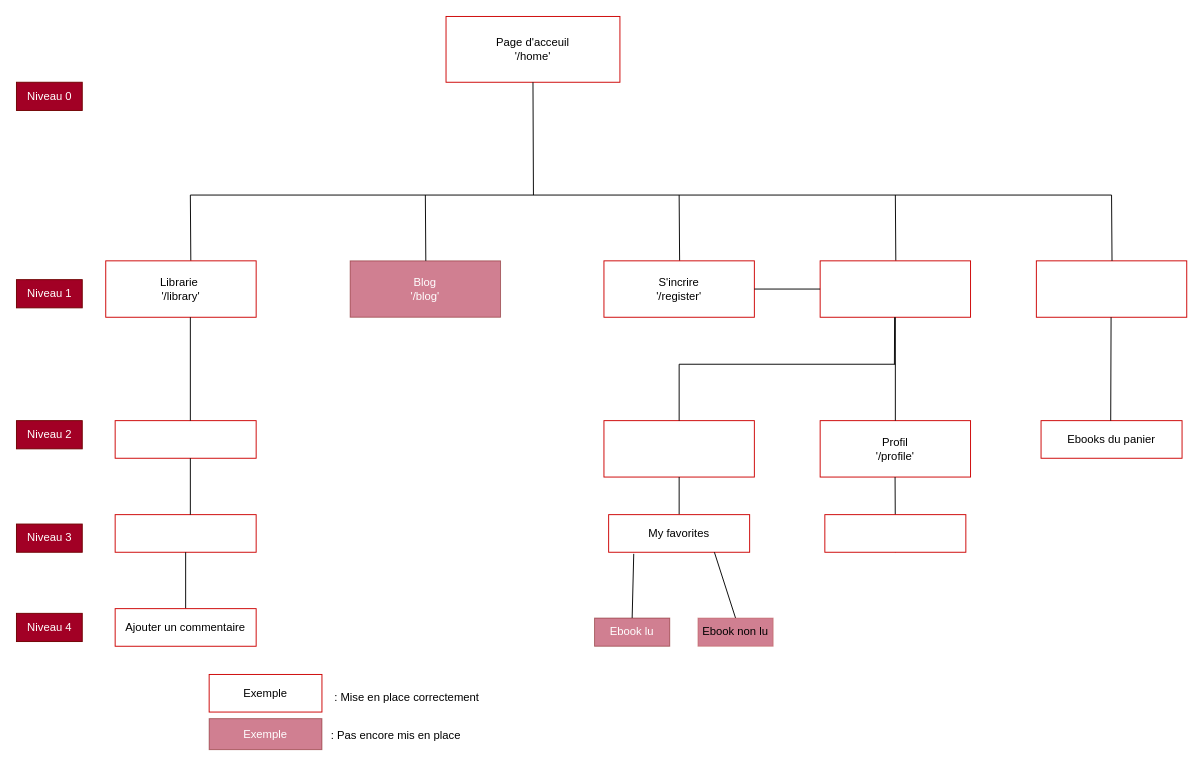
Some shapes in this 1203 by 766 pixel diagram are drawn without their labels. The shapes that lost their labels are listed below. From the top down, each one's box as (x1, y1, x2, y2) in pixels, then its label:
(819, 260, 971, 317): Se Connecter '/login'
(1035, 260, 1187, 317): Panier '/cart'
(114, 420, 256, 458): Ebooks
(603, 420, 754, 477): Mon Espace '/userlibrary'
(114, 514, 256, 552): Détail d'un ebook
(824, 514, 966, 552): Informations personnelles
